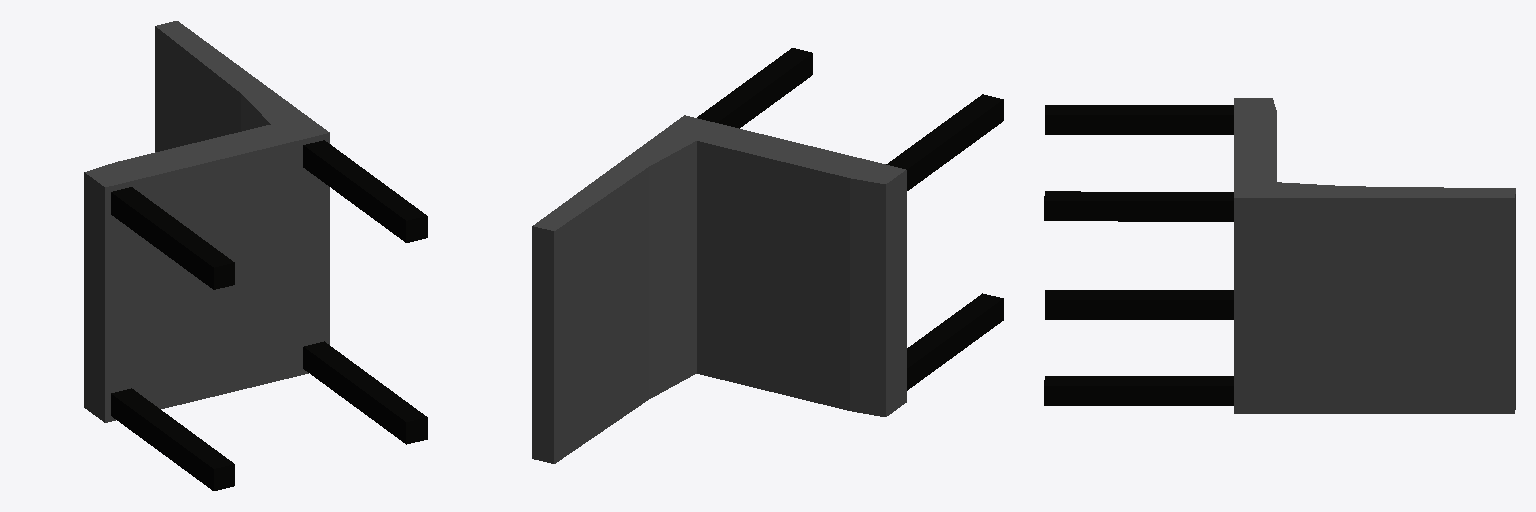
The robot description file, URDF, robot "room_with_chair":
<?xml version="1.0"?>
<robot name="room_with_chair">
  <link name="base">
    <visual>
      <origin xyz="-0.0 0. -0.1" rpy="1.5708 0 3.14" />
      <!-- Use the mesh's own materials for visualization -->
      <geometry>
           <mesh filename="../dae/chair1.dae" />
      </geometry>
    </visual>
    <collision>
      <origin xyz="0 0 0.1" rpy="0 0 0" />
      <geometry>
        <box size="0.5 0.5 0.5" />
      </geometry>
    </collision>
    <inertial>
      <origin xyz="0 0 0" rpy="0 0 0" />
      <mass value="2.0" />
      <inertia ixx="0.2" ixy="0" ixz="0" iyy="0.2" iyz="0" izz="0.2" />
    </inertial>
  </link>
</robot>

--- Facts derived from the render (not from the file) ---
Views: 3 orthographic renders of the robot side by side, from view 1: azimuth 30°, elevation 25°; view 2: azimuth 150°, elevation 25°; view 3: azimuth 270°, elevation 25°.
Model room_with_chair with 1 links and 0 joints (none), rooted at base, posed every joint at zero.
Links seen in each view (by area): view 1: base; view 2: base; view 3: base.
Boxes of the visible links, box(x1,y1,x2,y2) form: base: box(84, 21, 427, 490); base: box(532, 48, 1003, 463); base: box(1044, 98, 1515, 413).
Bounding box of the posed robot: 0.5002 × 0.9876 × 0.5 m (x, y, z).
Meshes: 1 distinct files referenced, 1 mesh visuals loaded (1 Collada DAE).